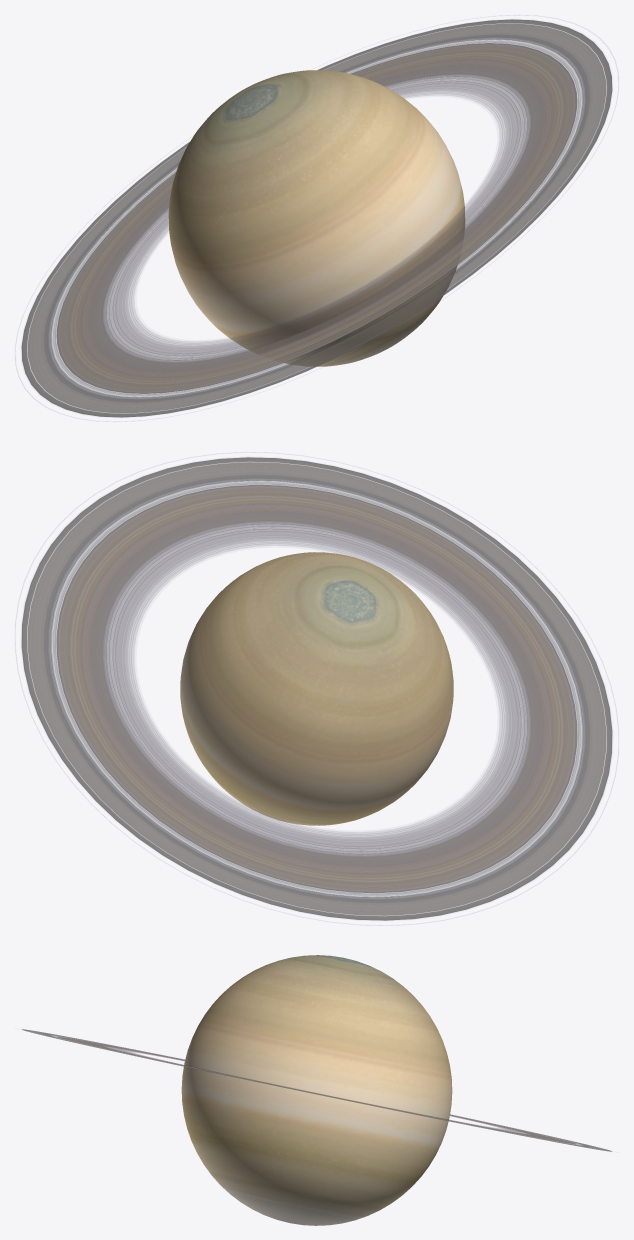
The model's file is saturn-03a9b706.glb.
3 renders of one model, top to bottom at view 1: azimuth 30°, elevation 25°; view 2: azimuth 150°, elevation 25°; view 3: azimuth 270°, elevation 25°, orthographic. The views are drawn at different scales.
Visible parts, largest first — view 1: Ring, Saturn; view 2: Ring, Saturn; view 3: Saturn, Ring.
Part boxes in pixels (x1=…): Ring: x1=21, y1=19, x2=612, y2=417; Saturn: x1=168, y1=70, x2=465, y2=366; Ring: x1=21, y1=457, x2=612, y2=920; Saturn: x1=180, y1=552, x2=453, y2=825; Saturn: x1=181, y1=955, x2=452, y2=1225; Ring: x1=22, y1=1029, x2=611, y2=1151.
Bounding box in the file's own units: 4.19 × 2.06 × 4.48.
Materials: 2 (2 with a texture image).
